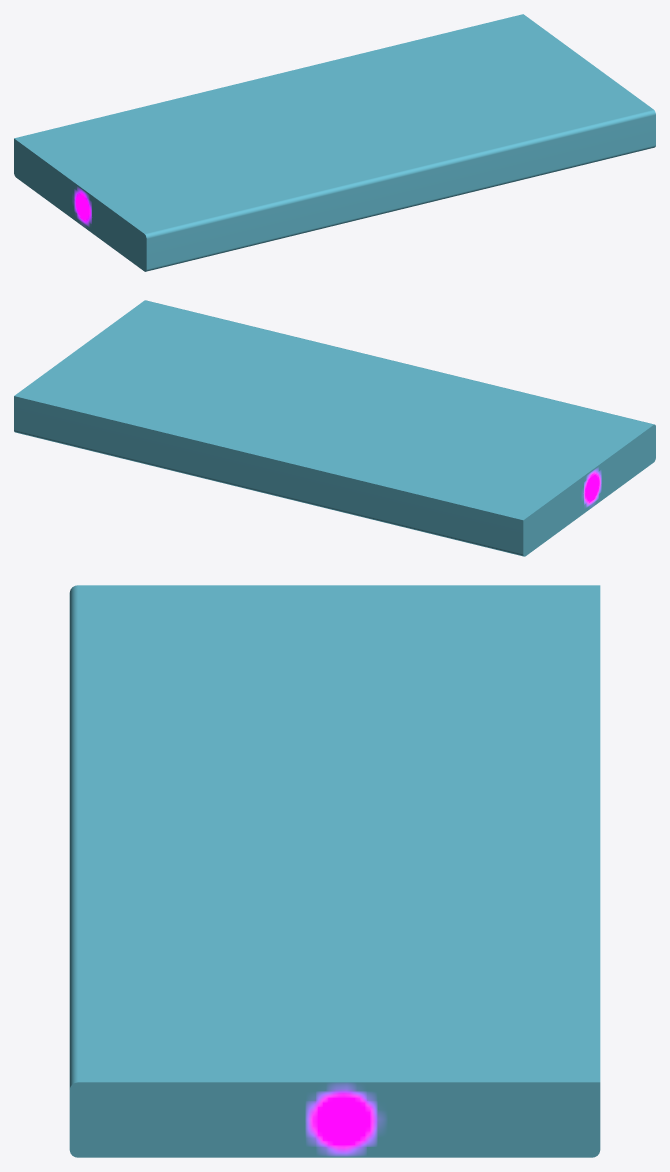
Rendered from shelfBottom.gltf.
The picture shows the model from 3 angles, top to bottom: view 1: azimuth 30°, elevation 25°; view 2: azimuth 150°, elevation 25°; view 3: azimuth 270°, elevation 25°; orthographic projection. The views are drawn at different scales.
Visible parts, largest first — view 1: bottom; view 2: bottom; view 3: bottom.
Part boxes in pixels (x1,y1,x2,y2): bottom: (14,14,655,271); bottom: (14,300,655,556); bottom: (69,585,600,1157).
Size of the model in its own units: 7.93 by 0.5605 by 3.57.
1 material, 1 textured.
